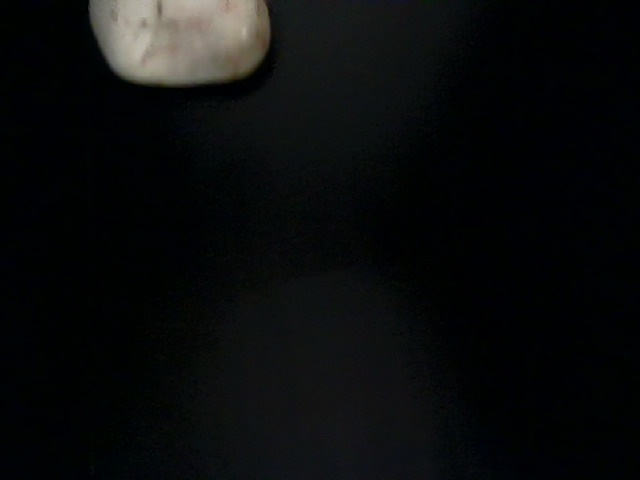QTLJ: (423, 1, 622, 244)
